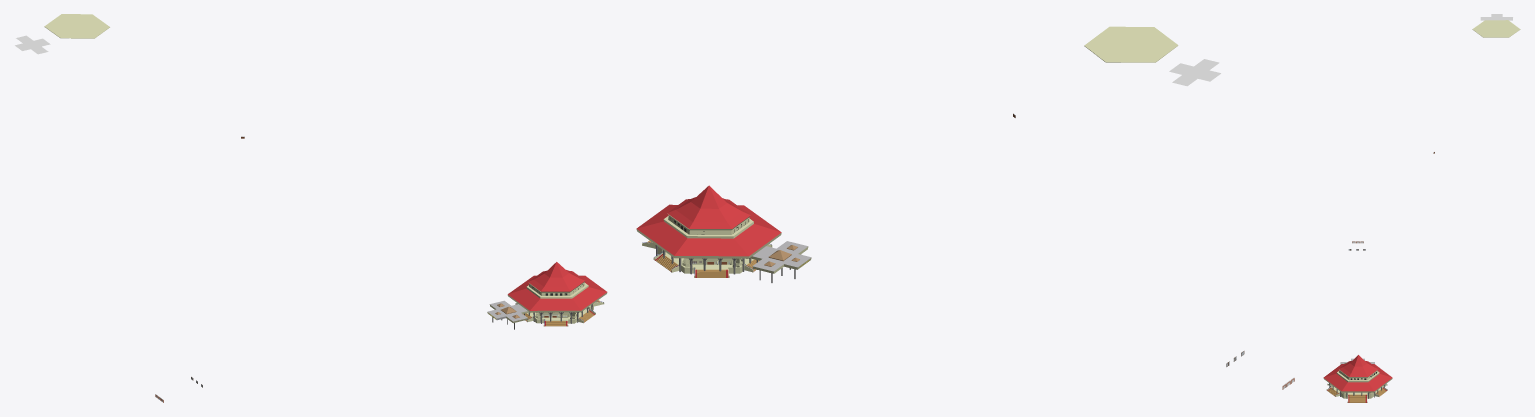
Rendered from graha-fix.fbx.
The picture shows the model from 3 angles, left to right: view 1: azimuth 30°, elevation 25°; view 2: azimuth 150°, elevation 25°; view 3: azimuth 270°, elevation 25°; orthographic projection. The views are drawn at different scales.
Visible parts, largest first — view 1: Plane.016_Plane.019, Cylinder.002, plafondepan_Cube; view 2: Plane.016_Plane.019, Cylinder.002, plafondepan_Cube; view 3: Plane.016_Plane.019, Cylinder.002.
Boxes of the visible parts, x1=… form: Plane.016_Plane.019: x1=507, y1=262, x2=607, y2=312; Cylinder.002: x1=44, y1=14, x2=109, y2=38; plafondepan_Cube: x1=487, y1=300, x2=529, y2=323; Plane.016_Plane.019: x1=636, y1=185, x2=781, y2=258; Cylinder.002: x1=1084, y1=26, x2=1178, y2=62; plafondepan_Cube: x1=750, y1=241, x2=811, y2=273; Plane.016_Plane.019: x1=1323, y1=355, x2=1392, y2=392; Cylinder.002: x1=1472, y1=20, x2=1520, y2=37.
Bounding box in the file's own units: 8666 × 5265 × 4208.
